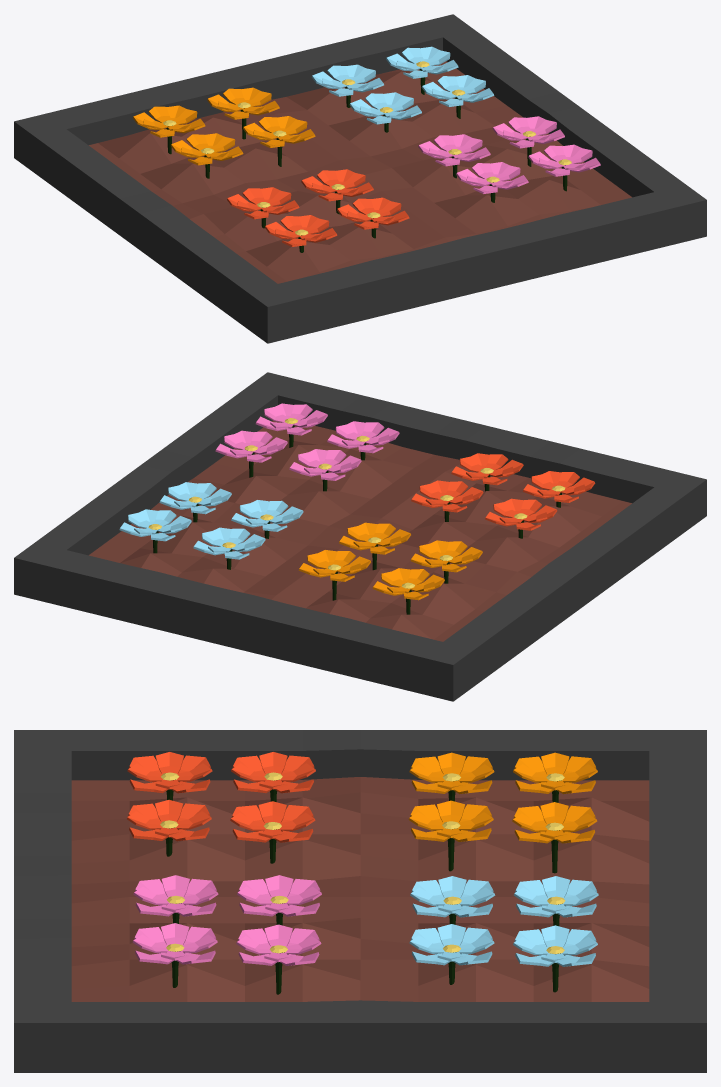
The model's file is village_garden.fbx.
3 views of the same model, one above another, from view 1: azimuth 30°, elevation 25°; view 2: azimuth 150°, elevation 25°; view 3: azimuth 270°, elevation 25° (orthographic). The views are drawn at different scales.
Parts seen in each view (by area): view 1: Cube.049, Cube.051, Cube.052, Cube.054, Cube.050; view 2: Cube.049, Cube.051, Cube.052, Cube.054, Cube.050; view 3: Cube.049, Cube.051, Cube.052, Cube.054, Cube.050.
Part boxes in pixels (left/top/right/bottom): Cube.049: left=14, top=14, right=706, bottom=343; Cube.051: left=133, top=87, right=315, bottom=178; Cube.052: left=418, top=116, right=600, bottom=202; Cube.054: left=311, top=46, right=494, bottom=132; Cube.050: left=227, top=169, right=409, bottom=252; Cube.049: left=14, top=372, right=706, bottom=701; Cube.051: left=298, top=522, right=482, bottom=614; Cube.052: left=215, top=403, right=399, bottom=491; Cube.054: left=119, top=482, right=303, bottom=569; Cube.050: left=411, top=453, right=595, bottom=538; Cube.049: left=14, top=730, right=706, bottom=1072; Cube.051: left=408, top=752, right=597, bottom=873; Cube.052: left=132, top=875, right=321, bottom=994; Cube.054: left=409, top=876, right=598, bottom=992; Cube.050: left=127, top=752, right=315, bottom=863.
Bounding box in the file's own units: 1783 × 244 × 1783.
